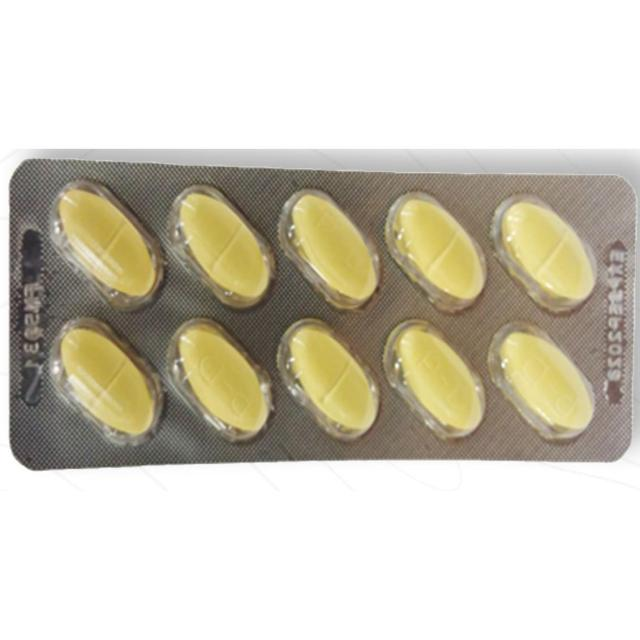blister: (1, 152, 635, 476)
